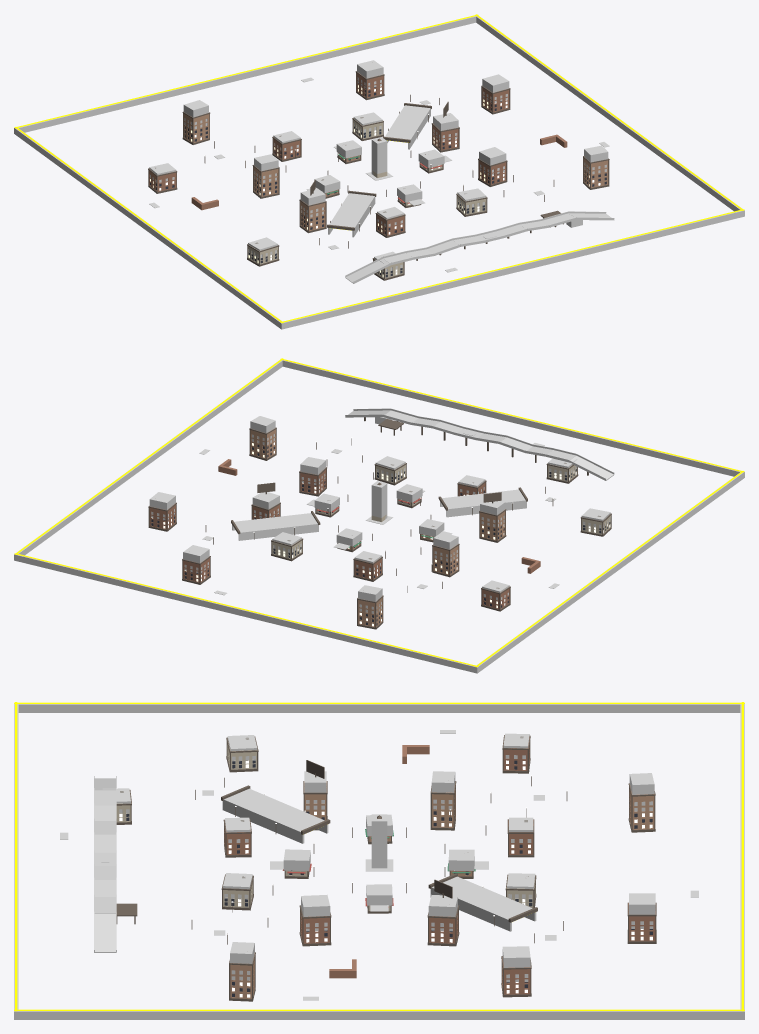
File: arena.glb
The picture shows the model from 3 angles, top to bottom: view 1: azimuth 30°, elevation 25°; view 2: azimuth 150°, elevation 25°; view 3: azimuth 270°, elevation 25°; orthographic projection. The views are drawn at different scales.
Visible parts, largest first — view 1: COL_Wall_0-1, COL_Wall_01, COL_Wall_-10, COL_Wall_10, COL_TunRoofNE, COL_TunRoofSW, Neon_0-1, Neon_01, Bldg_2, Bldg_10, Bldg_14, Bldg_6 (+10 smaller); view 2: COL_Wall_01, COL_Wall_0-1, COL_Wall_-10, COL_Wall_10, COL_TunRoofNE, Neon_0-1, Neon_01, COL_TunRoofSW, Bldg_10, Bldg_6, Bldg_2, Bldg_14 (+9 smaller); view 3: COL_Wall_10, COL_Wall_-10, COL_TunRoofSW, COL_TunRoofNE, Neon_-10, Neon_10, Bldg_14, Bldg_10, Bldg_6, COL_Wall_0-1, COL_Wall_01, Neon_0-1 (+29 smaller).
Boxes of the visible parts, bbox=[...] form: COL_Wall_0-1: bbox=[280, 210, 744, 329]; COL_Wall_01: bbox=[14, 16, 476, 134]; COL_Wall_-10: bbox=[14, 128, 283, 328]; COL_Wall_10: bbox=[476, 16, 744, 216]; COL_TunRoofNE: bbox=[385, 105, 430, 140]; COL_TunRoofSW: bbox=[329, 193, 374, 227]; Neon_0-1: bbox=[280, 209, 744, 322]; Neon_01: bbox=[14, 14, 478, 128]; Bldg_2: bbox=[299, 199, 326, 233]; Bldg_10: bbox=[583, 156, 609, 189]; Bldg_14: bbox=[182, 111, 210, 144]; Bldg_6: bbox=[252, 165, 279, 198]; COL_Wall_01: bbox=[14, 554, 478, 673]; COL_Wall_0-1: bbox=[280, 359, 744, 476]; COL_Wall_-10: bbox=[475, 472, 744, 672]; COL_Wall_10: bbox=[14, 360, 282, 560]; COL_TunRoofNE: bbox=[234, 513, 317, 533]; Neon_0-1: bbox=[280, 358, 744, 472]; Neon_01: bbox=[14, 553, 478, 666]; COL_TunRoofSW: bbox=[442, 489, 525, 510]; Bldg_10: bbox=[249, 427, 276, 460]; Bldg_6: bbox=[432, 544, 459, 577]; Bldg_2: bbox=[479, 509, 506, 542]; Bldg_14: bbox=[357, 595, 383, 629]; COL_Wall_10: bbox=[14, 1011, 744, 1019]; COL_Wall_-10: bbox=[18, 704, 740, 712]; COL_TunRoofSW: bbox=[223, 788, 324, 833]; COL_TunRoofNE: bbox=[431, 876, 532, 921]; Neon_-10: bbox=[14, 702, 744, 703]; Neon_10: bbox=[14, 1009, 744, 1010]; Bldg_14: bbox=[628, 783, 655, 832]; Bldg_10: bbox=[229, 952, 255, 1001]; Bldg_6: bbox=[430, 781, 456, 830]; COL_Wall_0-1: bbox=[14, 704, 18, 1019]; COL_Wall_01: bbox=[740, 704, 744, 1019]; Neon_0-1: bbox=[15, 702, 17, 1011].
Bounding box in the file's own units: 320 × 33.1 × 320.
